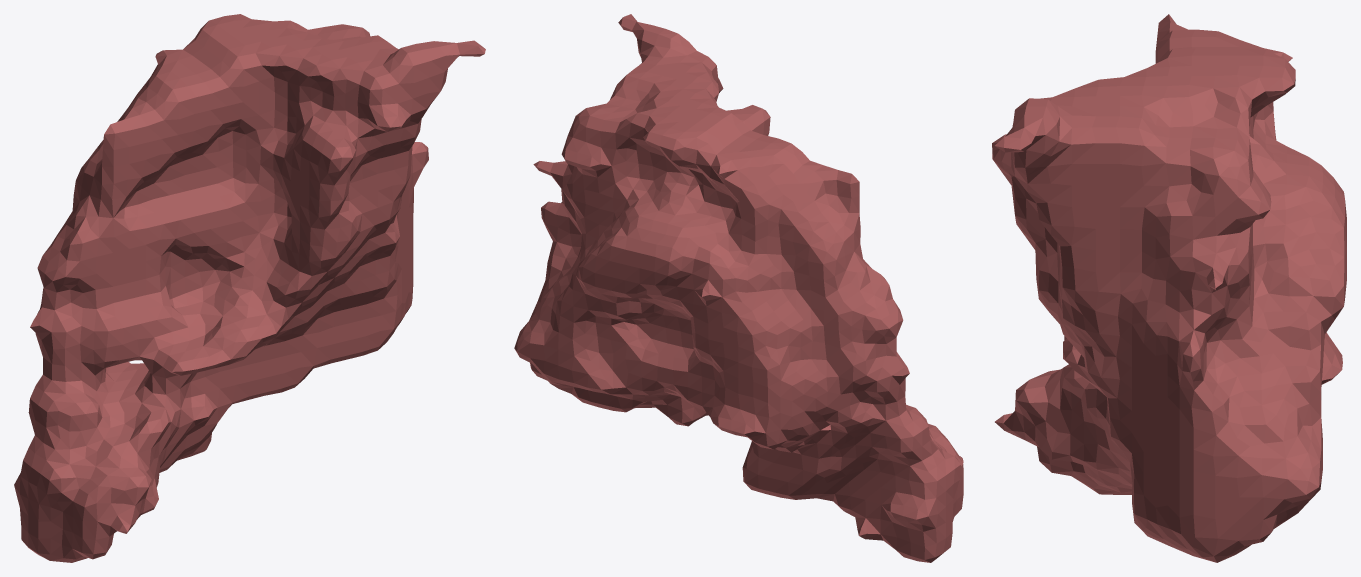
The model's file is aseg_028_Left-VentralDC.glb.
The picture shows the model from 3 angles, left to right: view 1: azimuth 30°, elevation 25°; view 2: azimuth 150°, elevation 25°; view 3: azimuth 270°, elevation 25°; orthographic projection. The views are drawn at different scales.
Bounding box in the file's own units: 25.8 × 26.92 × 14.85.
